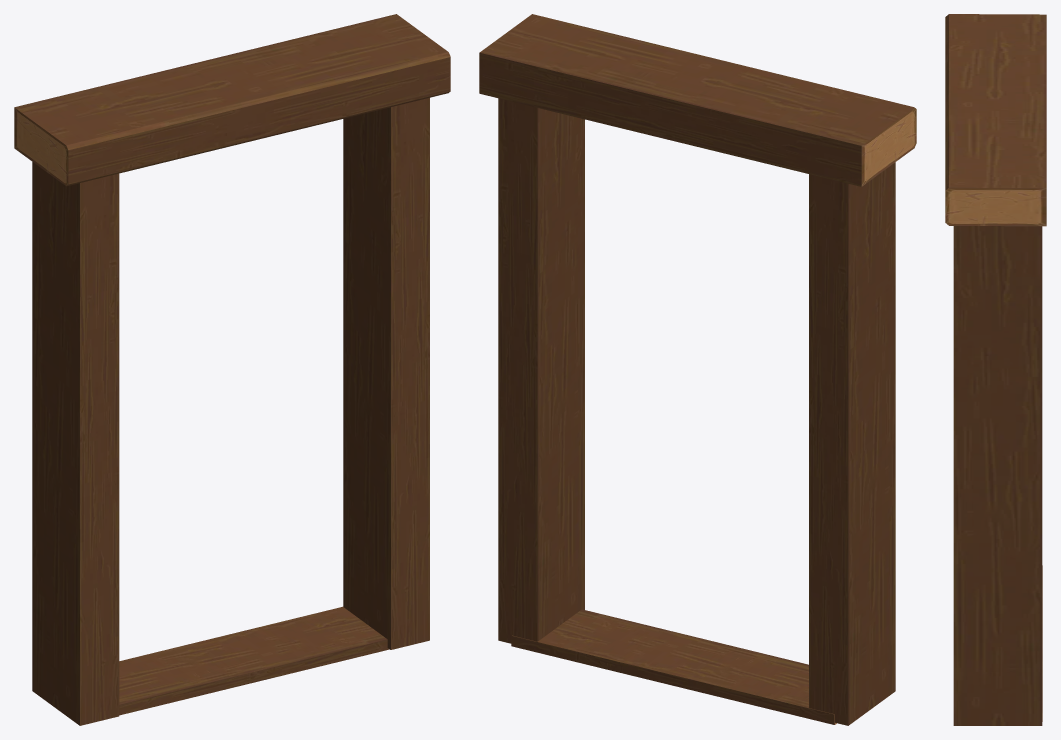
The model's file is doorframe_flat_wooddark.glb.
3 renders of one model, left to right at view 1: azimuth 30°, elevation 25°; view 2: azimuth 150°, elevation 25°; view 3: azimuth 270°, elevation 25°, orthographic. The views are drawn at different scales.
Bounding box in the file's own units: 1.57 × 2.31 × 0.3884.
1 material, 1 textured.
